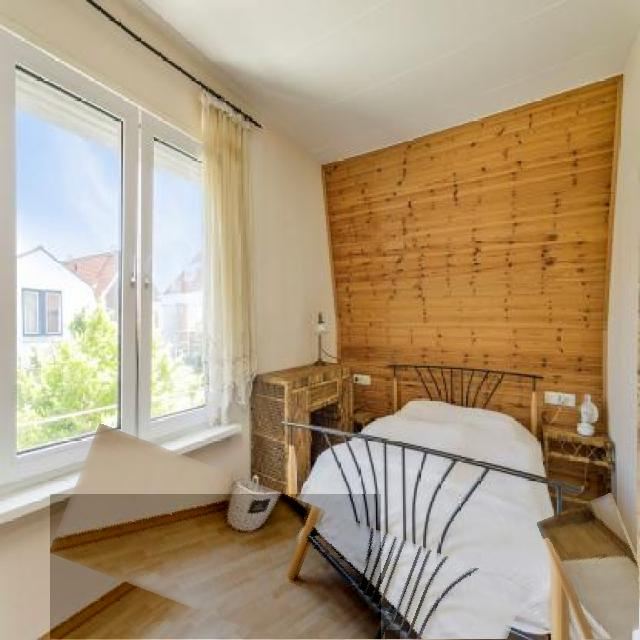floor: (51, 495, 381, 640), (537, 516, 640, 640), (386, 630, 400, 640)
